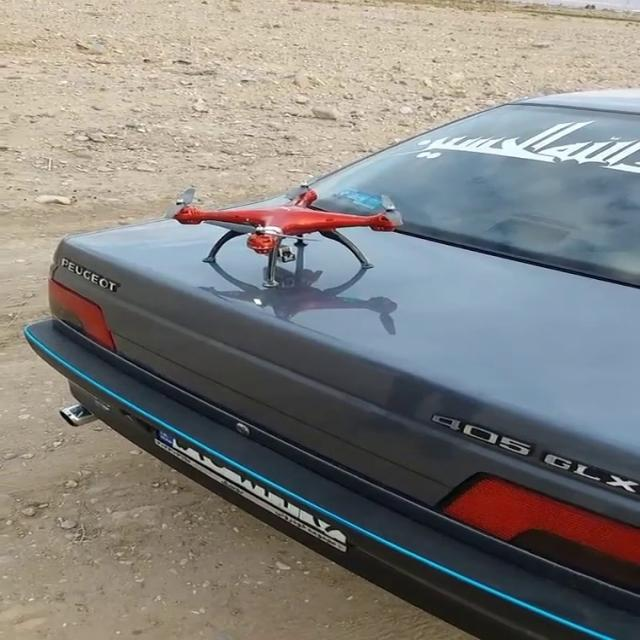drone: (161, 175, 403, 285)
